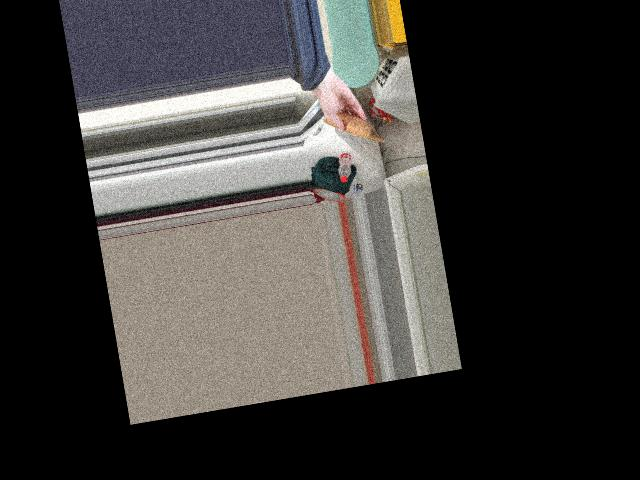sweet_potato: (329, 110, 368, 140)
